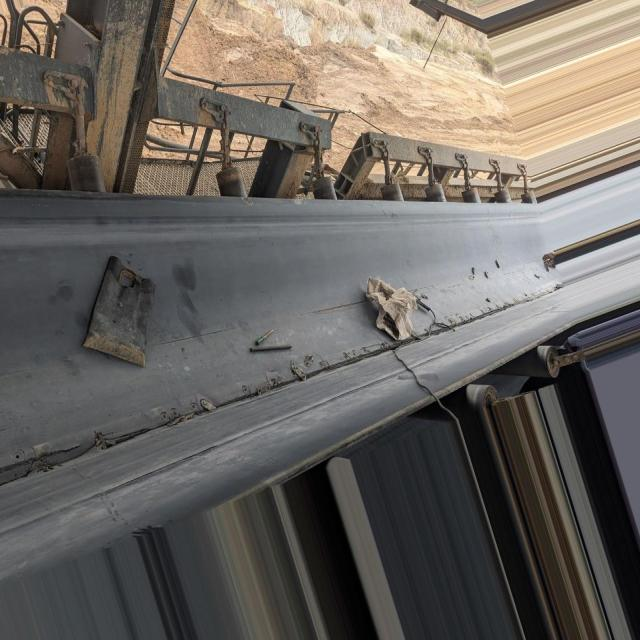Other Objects: (81, 251, 159, 368), (360, 255, 437, 330), (249, 314, 300, 371), (398, 359, 440, 404)
Roller: (63, 155, 109, 200), (505, 348, 556, 379), (462, 379, 496, 421), (214, 161, 249, 194), (314, 175, 340, 200), (378, 183, 406, 202), (424, 184, 449, 203), (463, 184, 484, 203), (495, 185, 516, 203), (524, 192, 538, 205)
Tear: (0, 285, 549, 489)
